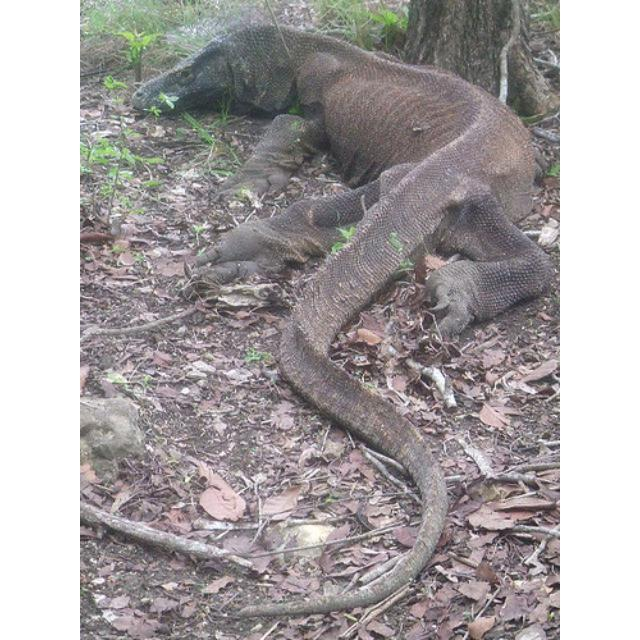KomodoDragon: (128, 19, 555, 619)
